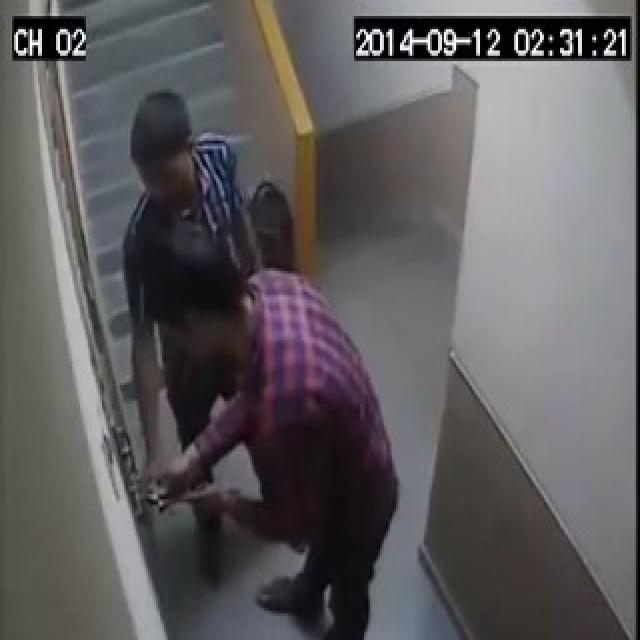burglary: (90, 109, 408, 640)
